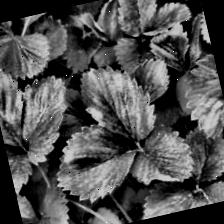Powdery Mildew Leaf: (74, 55, 162, 152), (120, 119, 198, 193)
